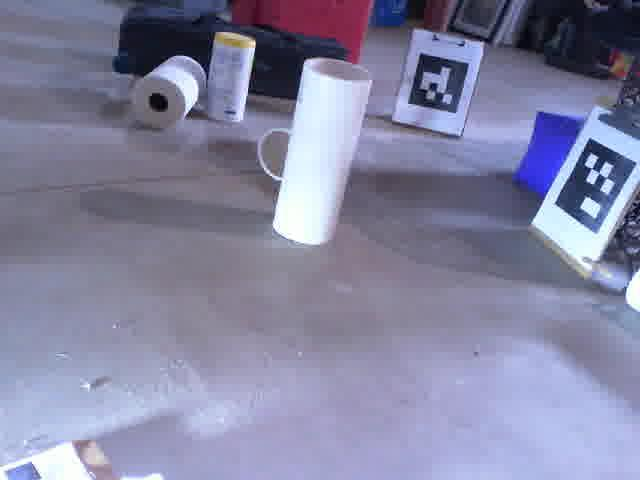coral: (270, 53, 380, 248), (250, 117, 301, 189)
